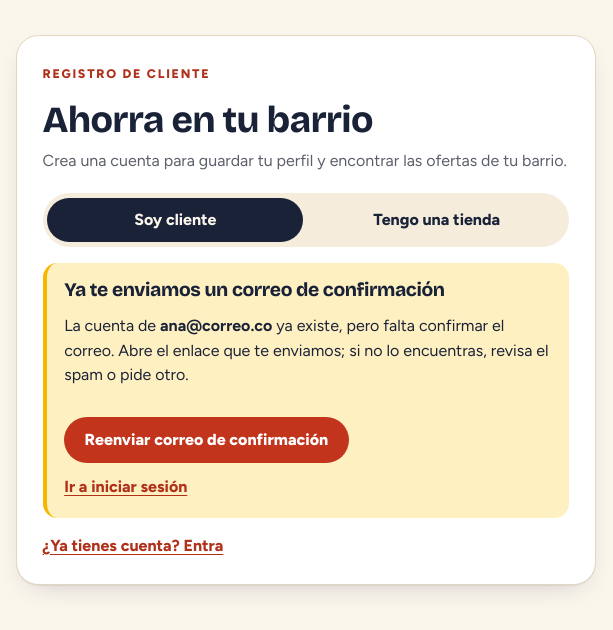
Scenario: RegisterComponent › one email, one account › says the confirmation email was already sent for an account that exists unconfirmed, and resends it
Click the button "Reenviar correo de confirmación": x=206, y=440 [64,417,349,463]
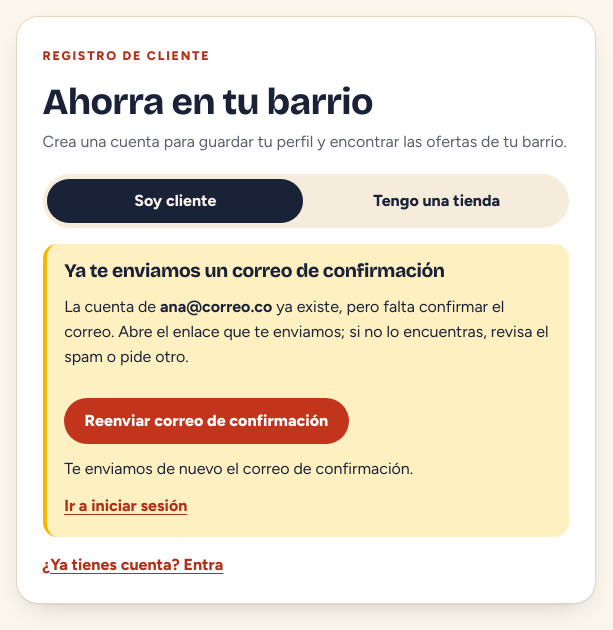
expect the text "Te enviamos de nuevo el correo de confirmación." is shown: met, box [64,459,413,478]
